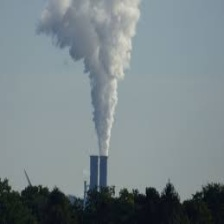smoke: (40, 1, 145, 155)
